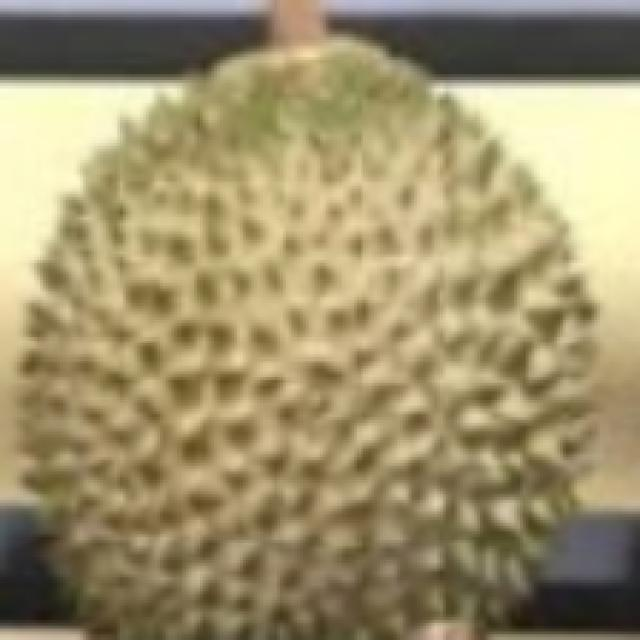d197: (12, 26, 602, 640)
